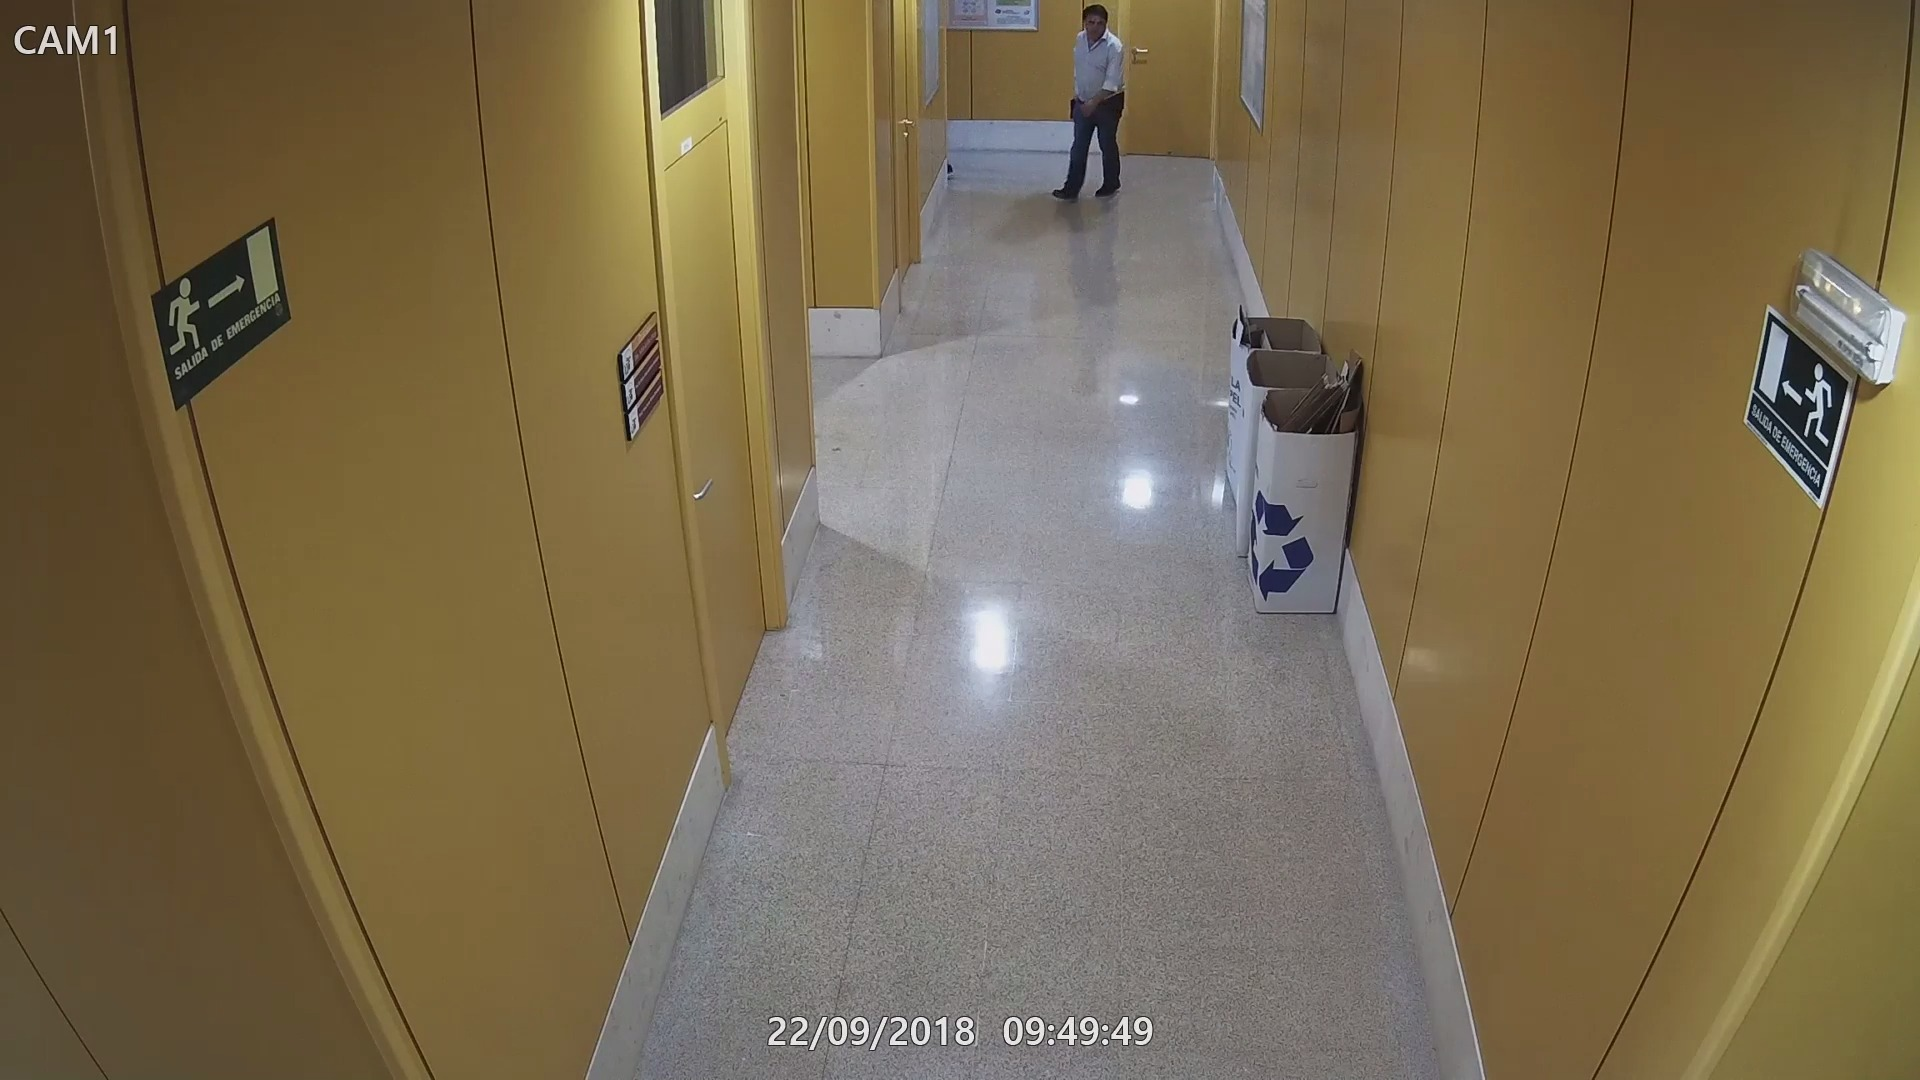Handgun: (1062, 94, 1087, 120)
